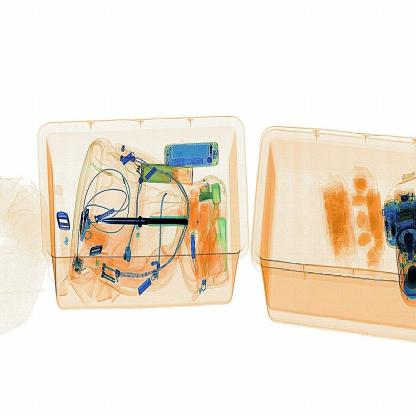gun: (87, 209, 191, 234)
